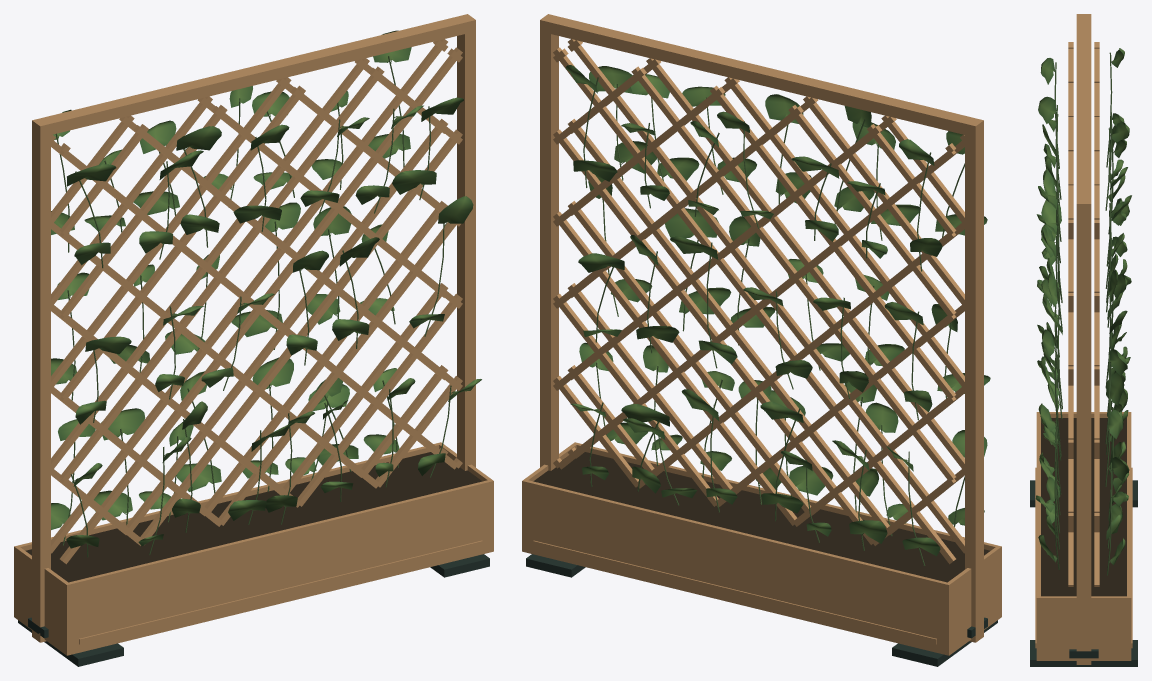
File: botanicalDivider-5.glb
3 views of the same model, side by side, from view 1: azimuth 30°, elevation 25°; view 2: azimuth 150°, elevation 25°; view 3: azimuth 270°, elevation 25° (orthographic). The views are drawn at different scales.
Parts seen in each view (by area): view 1: Botanical_frame_finish, Botanical_living_foliage, Botanical_recessed_soil, Botanical_connected_stems, Botanical_powdercoat; view 2: Botanical_frame_finish, Botanical_living_foliage, Botanical_recessed_soil, Botanical_connected_stems, Botanical_powdercoat; view 3: Botanical_frame_finish, Botanical_living_foliage, Botanical_recessed_soil, Botanical_connected_stems, Botanical_powdercoat.
Part boxes in pixels (<box>): Botanical_frame_finish: <box>14,14,493,655</box>; Botanical_living_foliage: <box>51,30,481,548</box>; Botanical_recessed_soil: <box>25,452,482,582</box>; Botanical_connected_stems: <box>55,56,453,557</box>; Botanical_powdercoat: <box>18,554,489,666</box>; Botanical_frame_finish: <box>522,14,1001,655</box>; Botanical_living_foliage: <box>565,65,990,556</box>; Botanical_recessed_soil: <box>533,452,990,582</box>; Botanical_connected_stems: <box>583,77,964,565</box>; Botanical_powdercoat: <box>526,554,997,666</box>; Botanical_frame_finish: <box>1035,14,1132,664</box>; Botanical_living_foliage: <box>1035,48,1131,565</box>; Botanical_recessed_soil: <box>1041,418,1126,596</box>; Botanical_connected_stems: <box>1053,52,1114,575</box>; Botanical_powdercoat: <box>1030,480,1137,666</box>.
Size of the model in its own units: 2 by 2.3 by 0.48.
